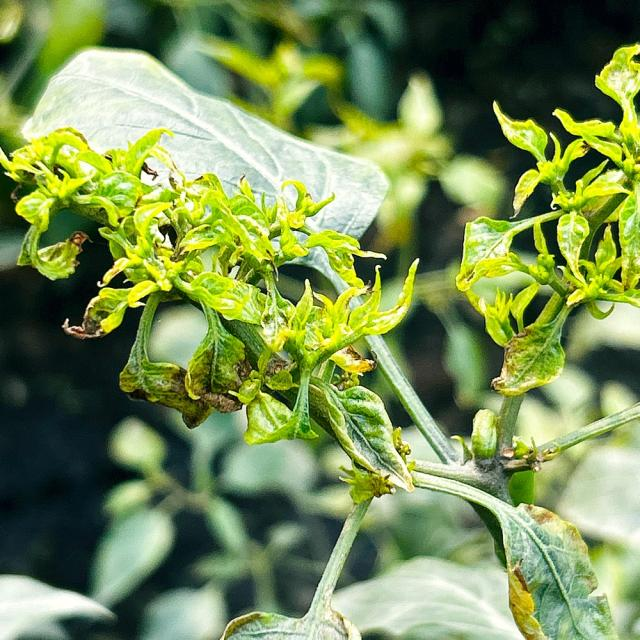Chilli_Leaf_Curl: (2, 39, 637, 637), (1, 121, 422, 495), (19, 44, 391, 256), (454, 41, 638, 397), (408, 461, 618, 638), (496, 501, 618, 638), (307, 378, 416, 497)
